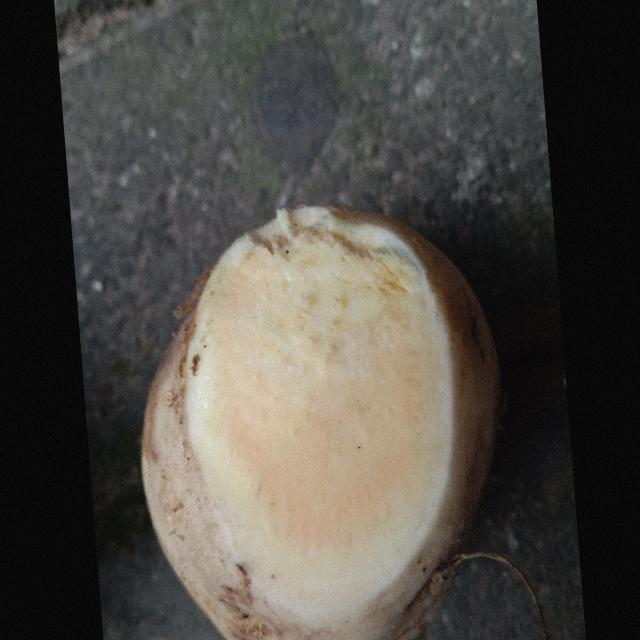Healthy Sweet Potato: (186, 207, 454, 630)
